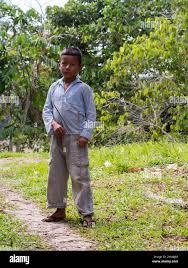Human: (23, 33, 110, 221)
